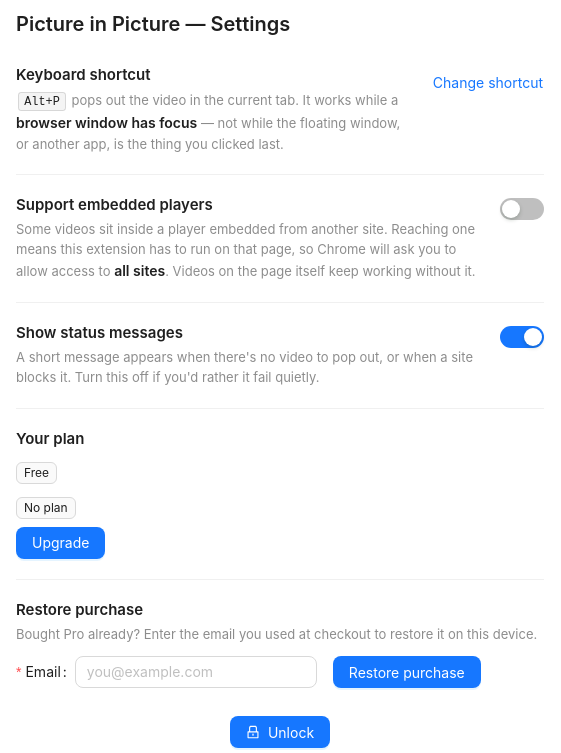
Test: Options container — settings wiring › a declined grant leaves the switch off, persists nothing, and says so calmly
Click the switch named "support embedded players".
click(522, 209)  # box left=500, top=198, right=544, bottom=220
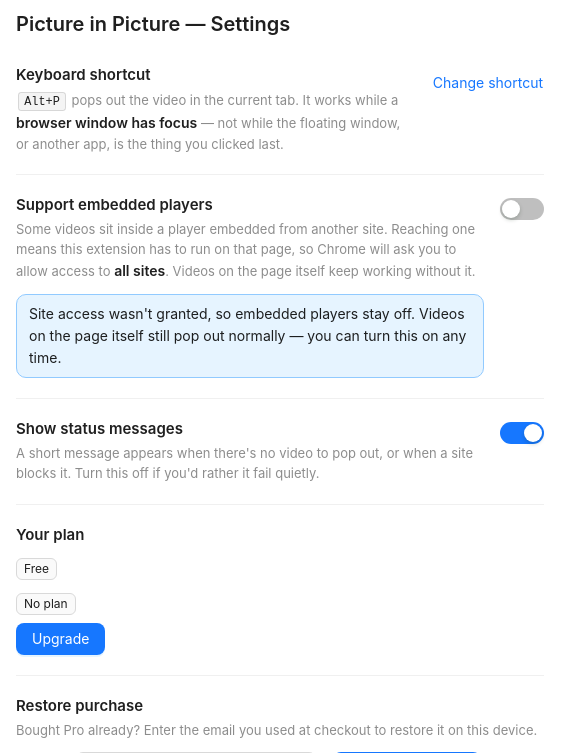
Now the element with test id "site-access-denied" shows "still", box left=29, top=305, right=466, bottom=366
